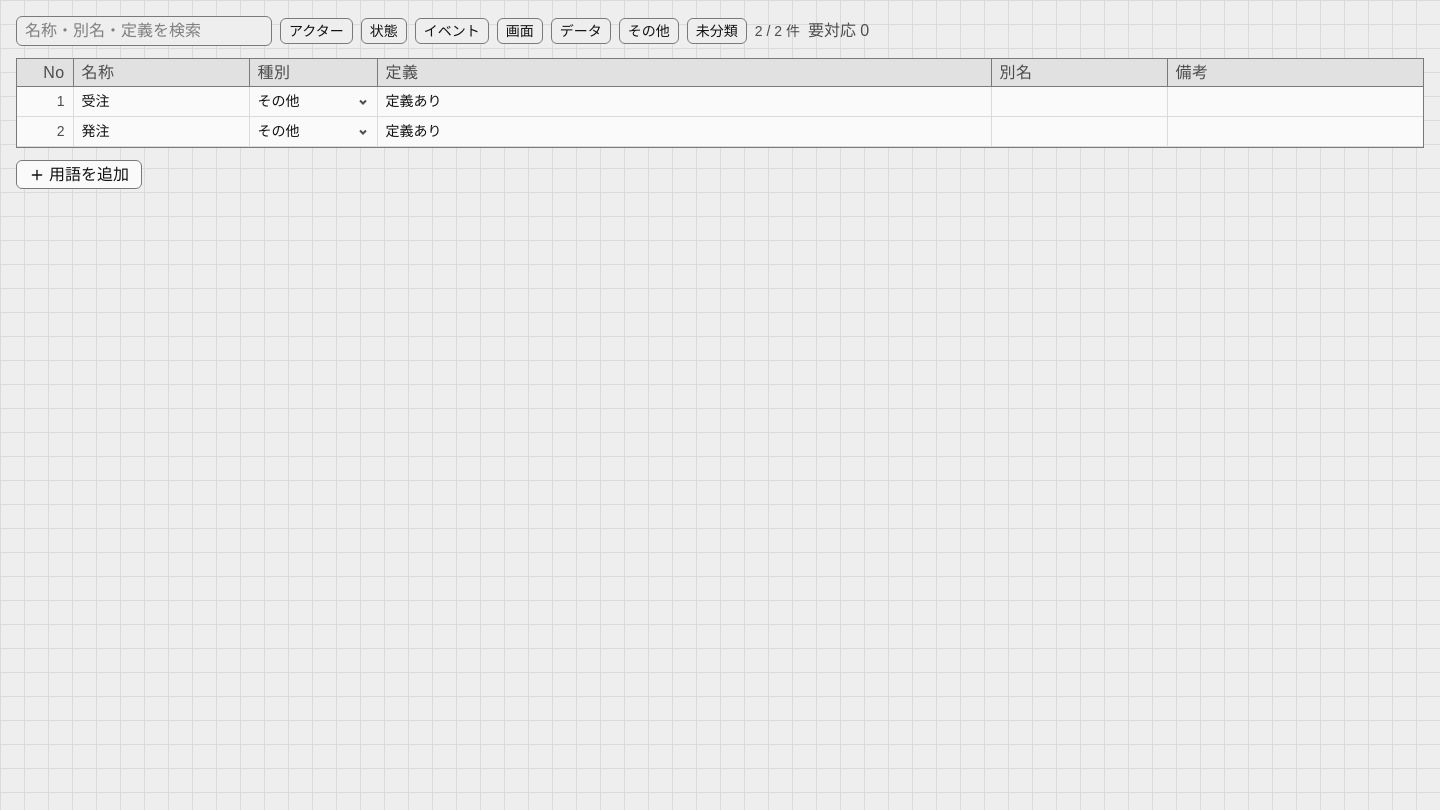
用語を追加ボタン › 検索・フィルタ中は出さない（行の追加が無効な状態と揃える）
Type "受注" into the search field named "用語を検索" at (144, 31), box top-left (16, 16), bottom-right (272, 46)
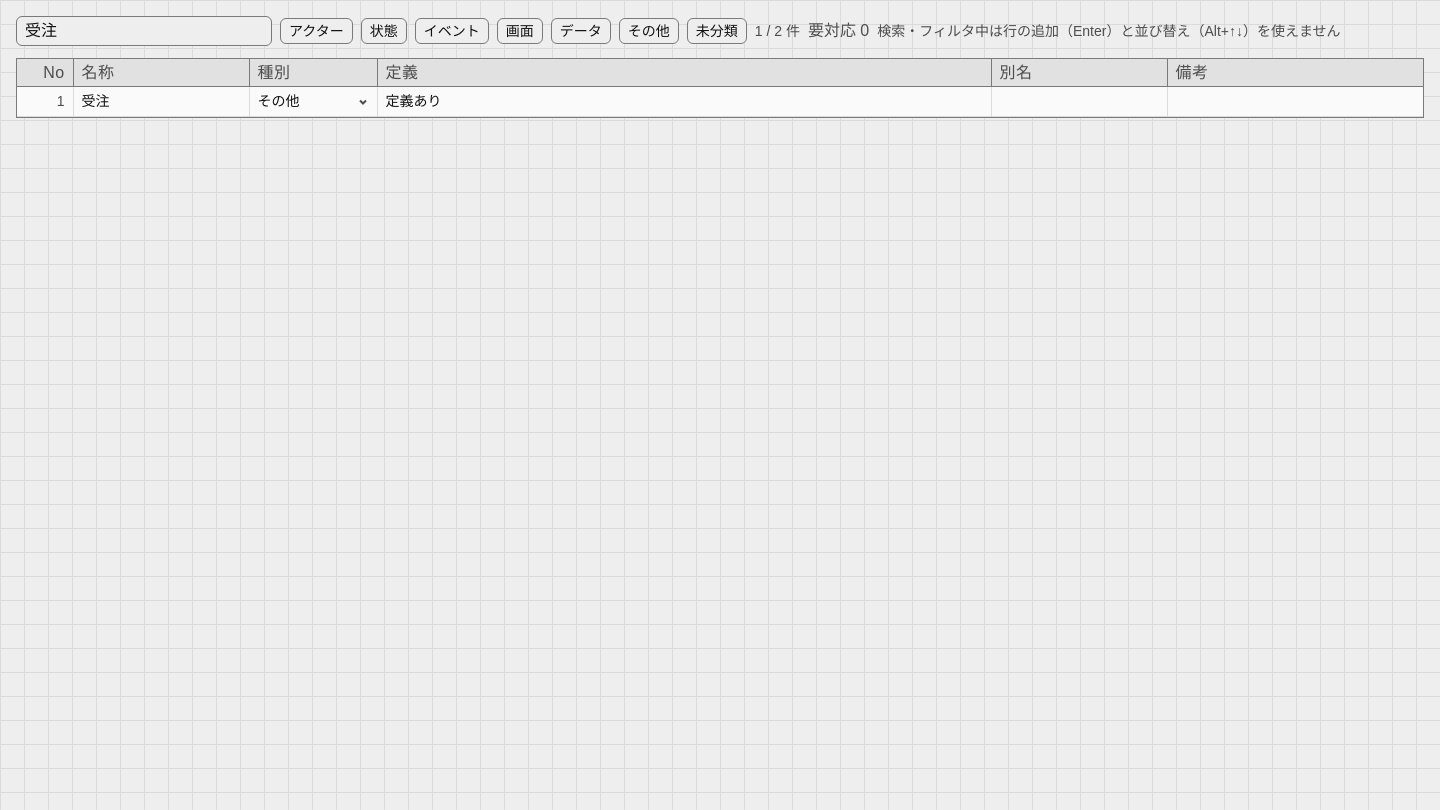
Expected: the button "用語を追加" is gone
